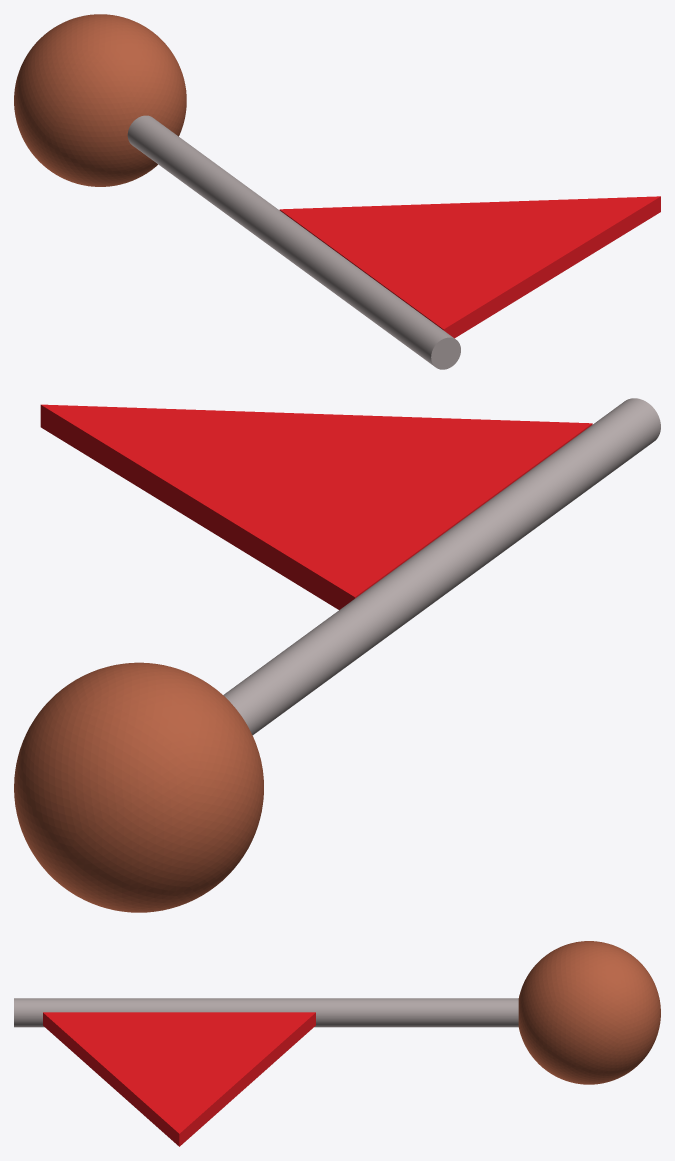
The model's file is Flag.obj.
The picture shows the model from 3 angles, top to bottom: view 1: azimuth 30°, elevation 25°; view 2: azimuth 150°, elevation 25°; view 3: azimuth 270°, elevation 25°; orthographic projection. The views are drawn at different scales.
Parts seen in each view (by area): view 1: Object.3, Object.2, Object.1; view 2: Object.3, Object.2, Object.1; view 3: Object.3, Object.2, Object.1.
Part boxes in pixels (x1,y1,x2,y2): Object.3: [279, 196, 660, 338]; Object.2: [14, 14, 186, 186]; Object.1: [127, 115, 460, 369]; Object.3: [40, 404, 592, 609]; Object.2: [14, 662, 263, 912]; Object.1: [223, 398, 660, 735]; Object.3: [43, 1012, 315, 1146]; Object.2: [518, 941, 660, 1084]; Object.1: [14, 998, 518, 1027].
Bounding box in the file's own units: 26 × 10 × 45.
